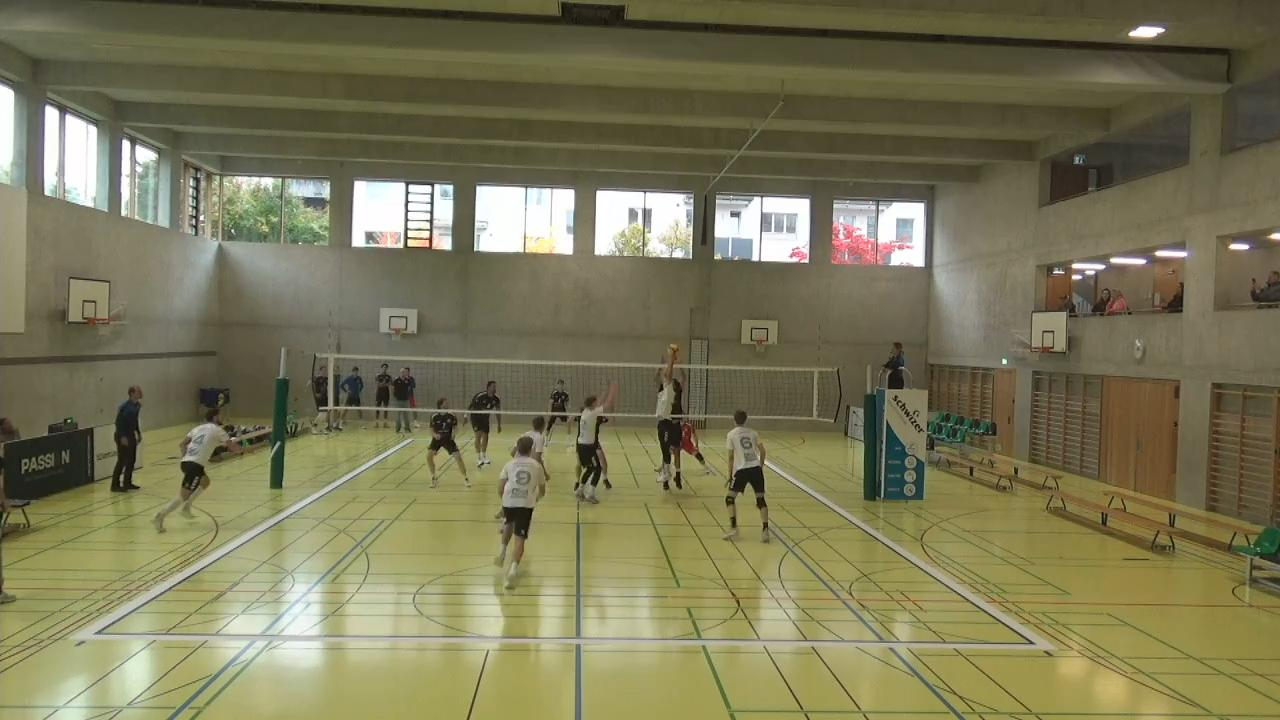Player: (155, 399, 230, 532), (495, 433, 549, 591), (722, 409, 770, 542), (572, 372, 619, 506), (425, 396, 473, 488), (509, 409, 554, 483), (465, 380, 501, 469), (669, 340, 690, 489), (679, 406, 712, 480), (545, 379, 573, 445), (594, 400, 611, 485)
Set: (652, 349, 690, 491)
ball: (667, 342, 681, 357)
